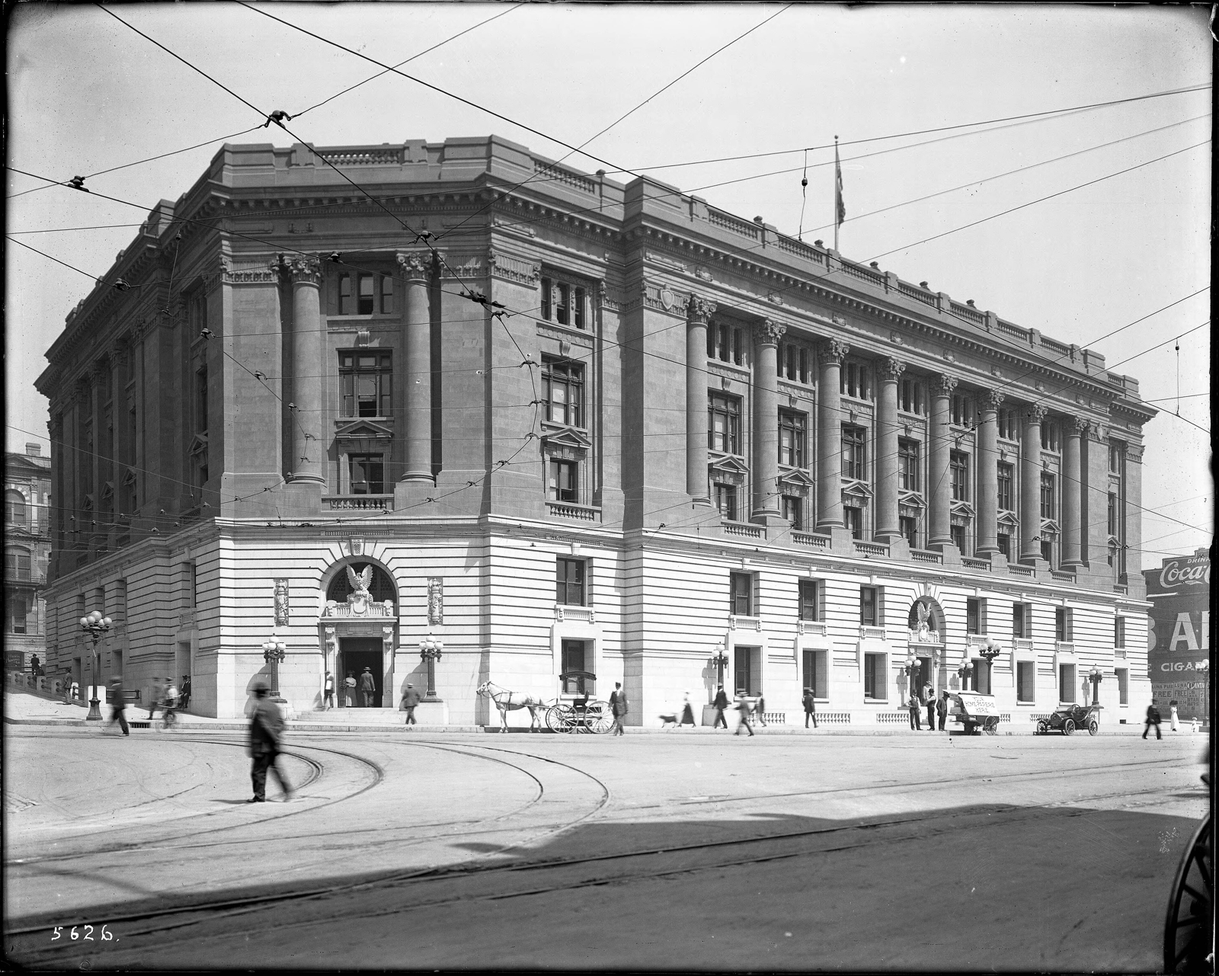fachada: (43, 122, 1158, 737)
